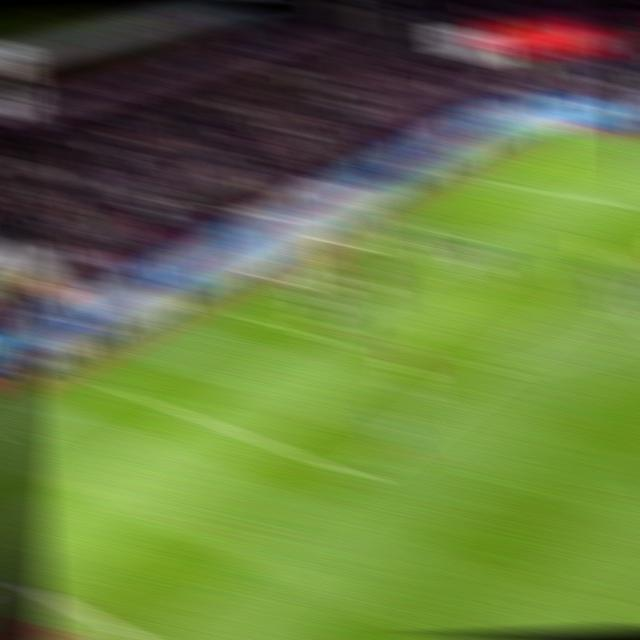bigarea_bottom_inner: (336, 457, 377, 490)
bigarea_bottom_outter: (90, 374, 131, 398)
bigarea_top_outter: (464, 168, 502, 190)
bottom_arc_area_intersection: (470, 354, 511, 383)
corner: (549, 125, 591, 144)
smallarea_bottom_inner: (290, 319, 331, 347)
smallarea_bottom_outter: (222, 301, 263, 326)
smallarea_top_inner: (450, 226, 489, 249)
smallarea_top_outter: (388, 211, 425, 234)
top_arc_area_intersection: (596, 265, 631, 286)
